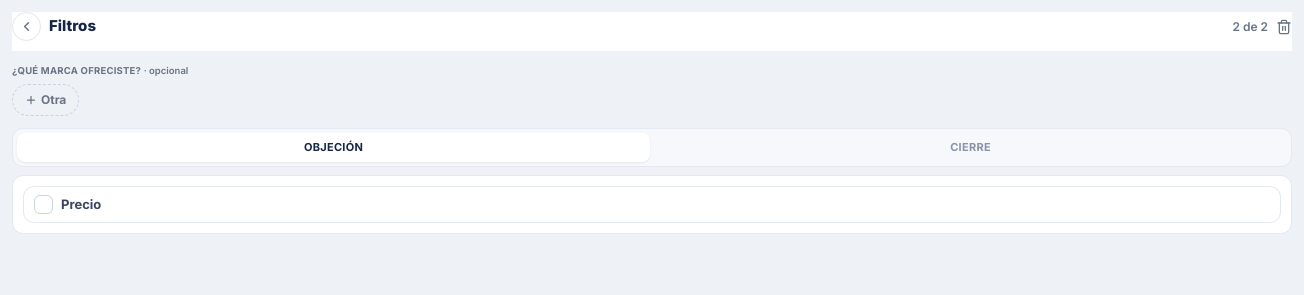
Test: si falla el borrado, muestra el error y no vuelve a la lista
Click the button named "quitar filtros" at (1284, 26), box [1276,18,1292,34]
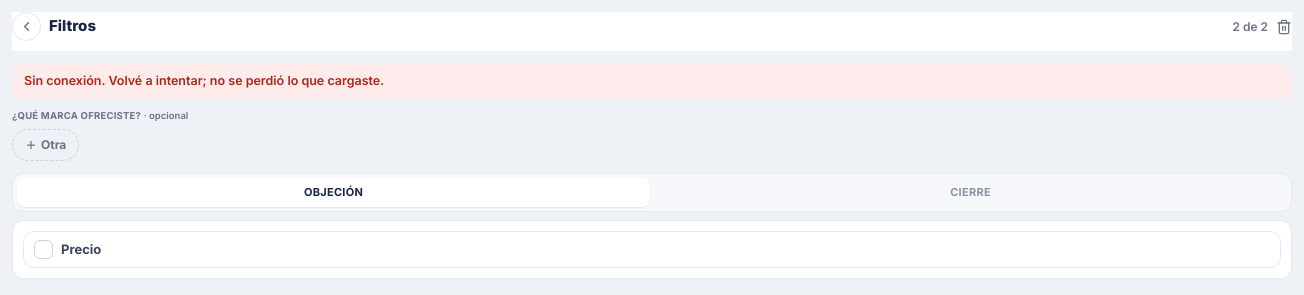
Check: the text "Sin conexión" is shown, box [24,73,384,88]
